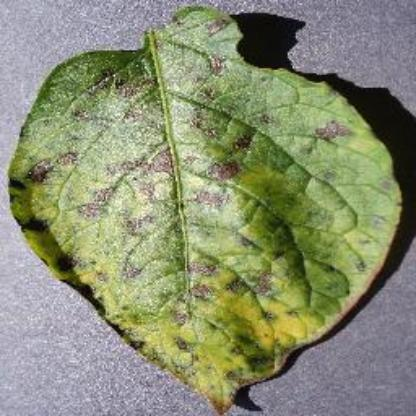Early-Blight: (9, 6, 408, 410)
